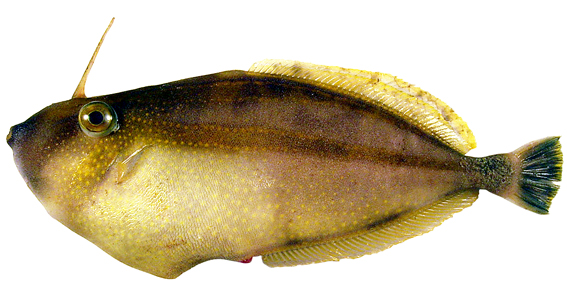fish: (7, 17, 564, 279)
